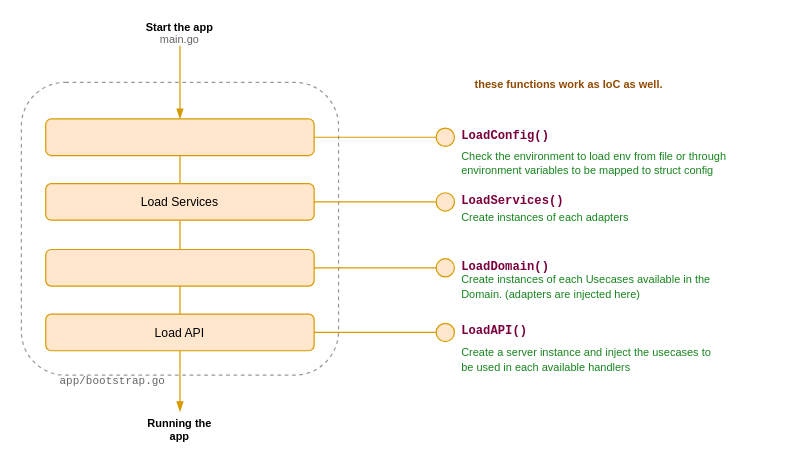
This 786x470 diagram has some shape labels left out. Here are the shapes that lost their labels. From the top down, the box of each, then its label:
(45, 118, 314, 156): Load Config
(45, 248, 314, 286): Load Domain
